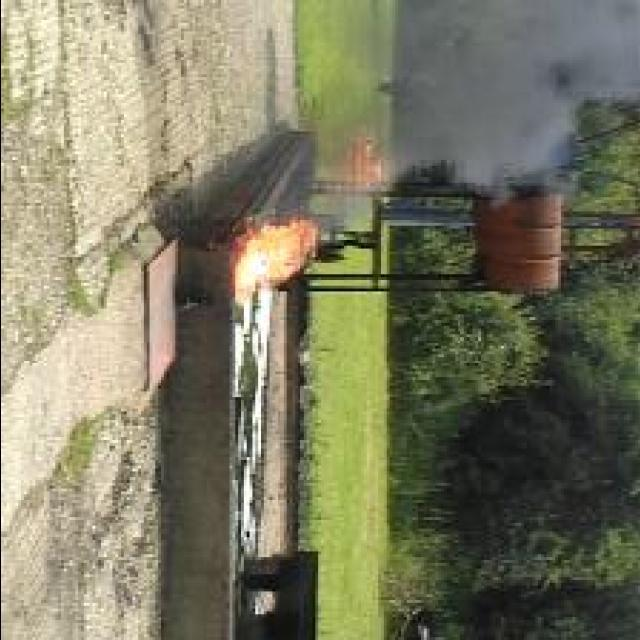Fire: (232, 219, 318, 307)
